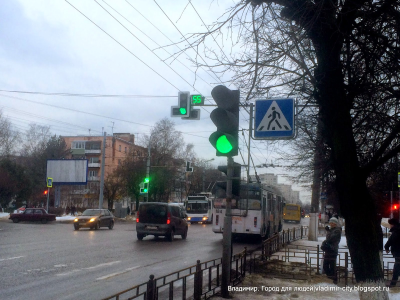crosswalk: (255, 98, 294, 140)
trafficlight_green: (213, 87, 238, 155), (179, 93, 187, 115)
